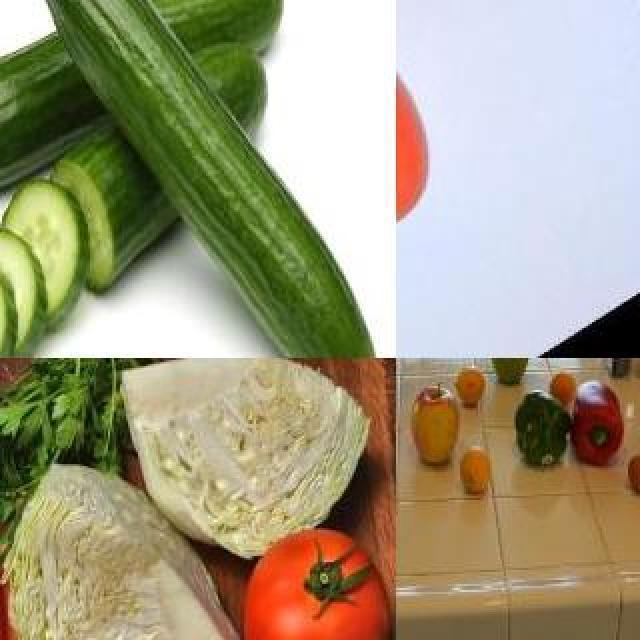Tomato: (242, 524, 392, 640), (396, 0, 456, 270)
